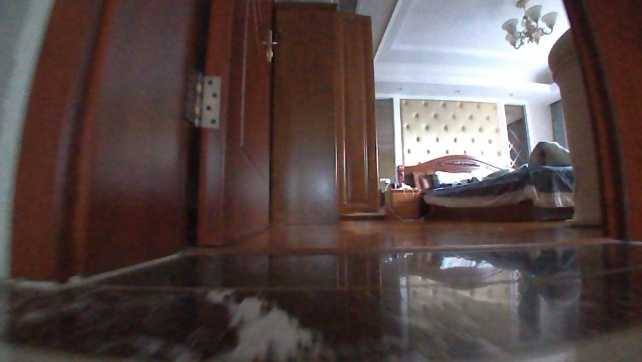bed: (396, 150, 576, 222)
cabinet: (388, 186, 421, 222)
door_anno: (0, 0, 280, 291)
